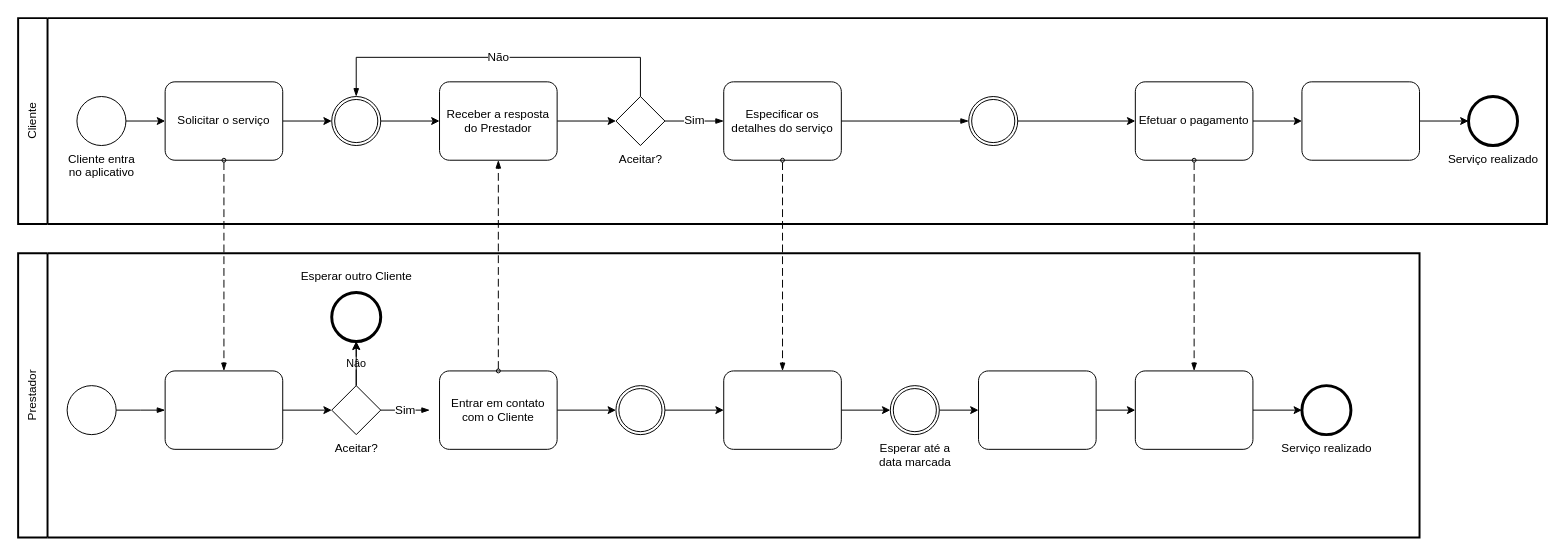
Some shapes in this 1564 by 555 pixel diagram are drawn without their labels. The centre of each missing label's shape, as x and y in pixels:
Efetuar a avaliação: point (1360, 120)
Efetuar o serviço: point (1037, 409)
Esperar a execução do serviço: point (993, 121)
Marcar visita e definir o orçamento: point (782, 409)
Prestador fica disponível: point (91, 410)
Receber o pagamento: point (1193, 409)
Receber o serviço: point (223, 409)
